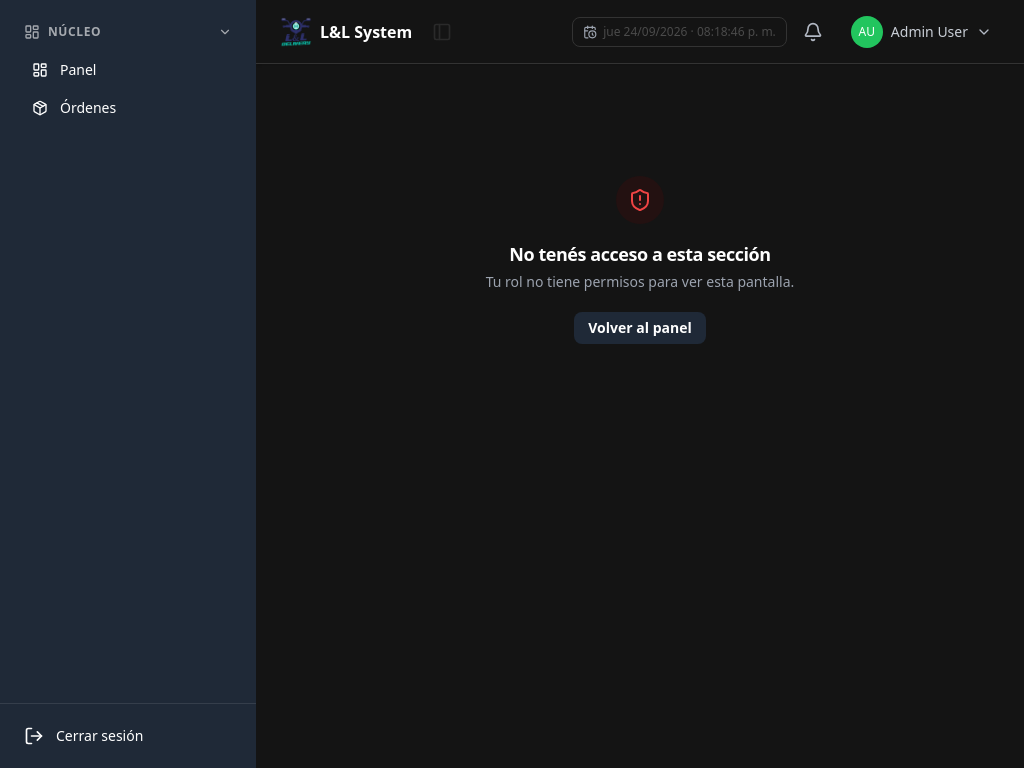
Test: AdminLayout — guard por rol › al volver al panel desde la pantalla de bloqueo se libera el guard
Expected: the heading "No tenés acceso a esta sección" is shown, [509,240,771,268]
What coordinates should you click on to do the following:
click the button "Volver al panel"
I would click on:
 (640, 328)
Its box is [574,312,706,344].
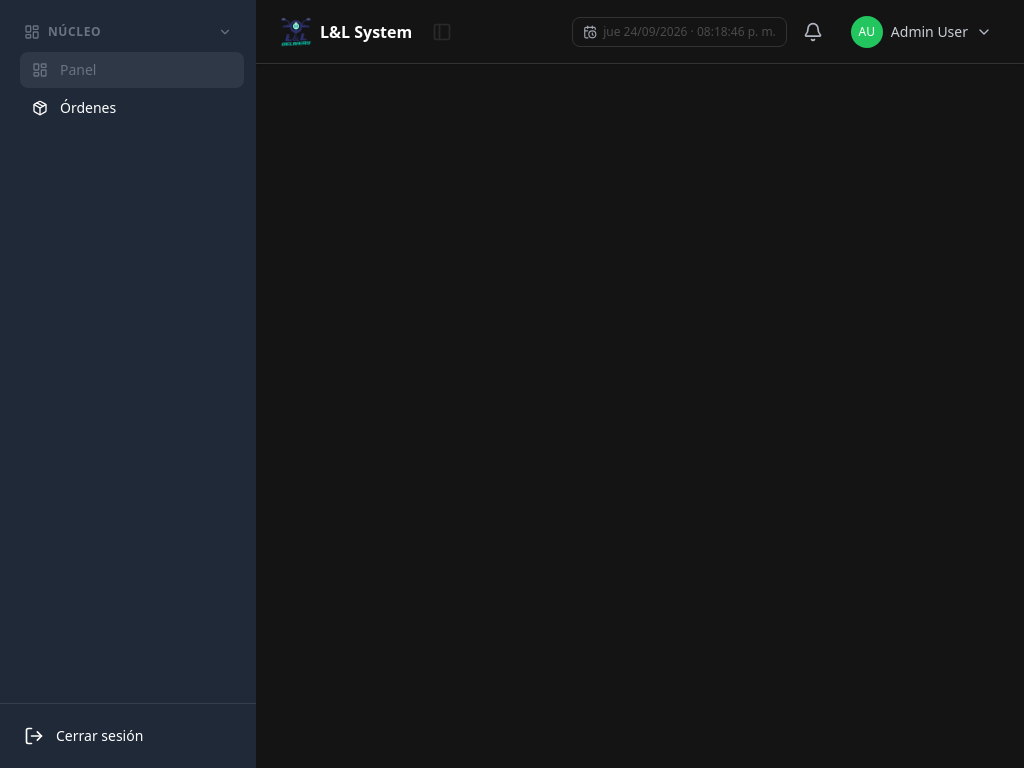
Expected: the heading "No tenés acceso a esta sección" is gone
